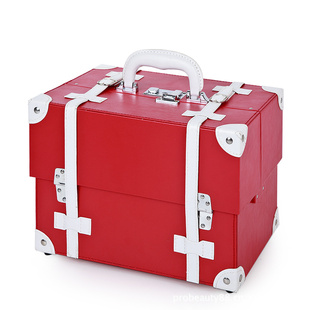shoutibox: (26, 51, 284, 294)
